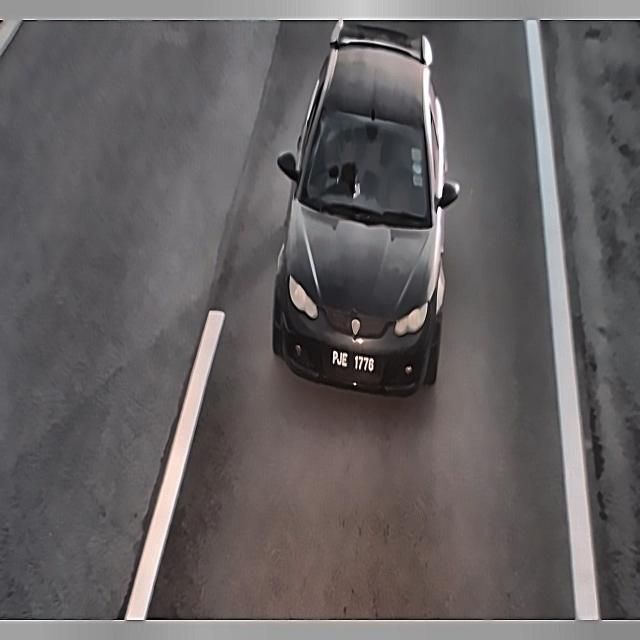car: (328, 344, 383, 382)
